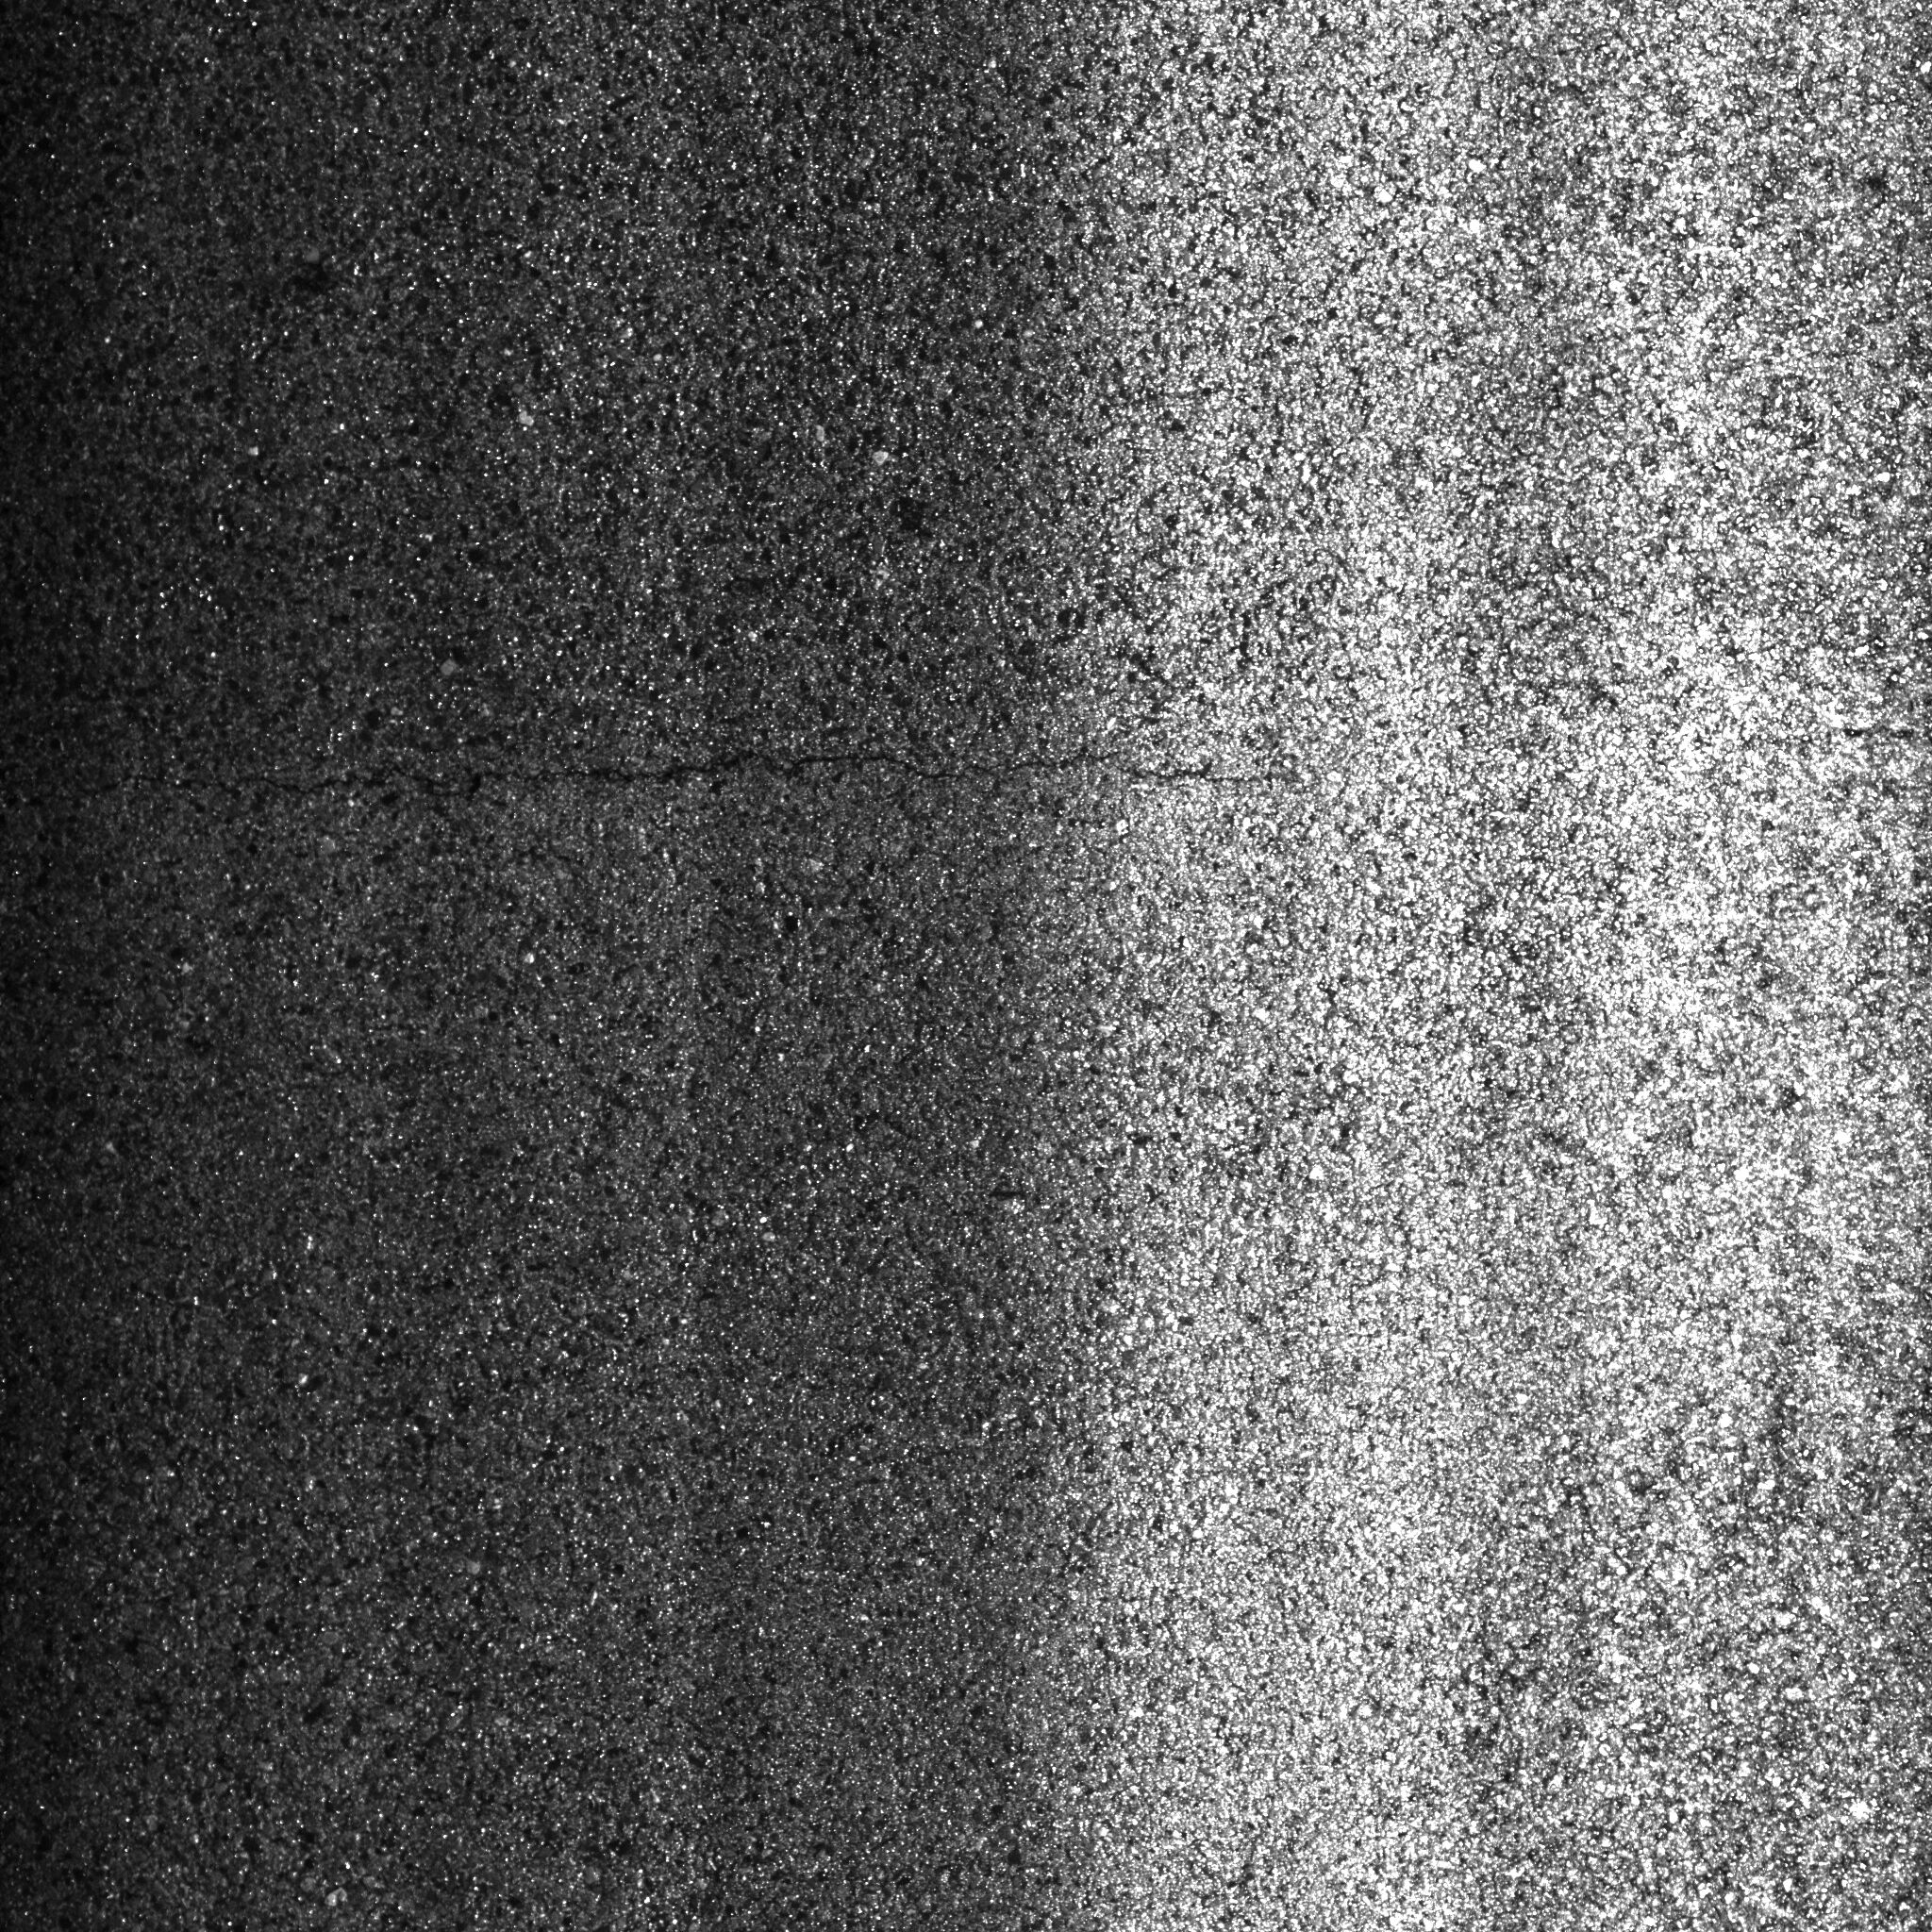transverse: (96, 679, 1897, 869)
